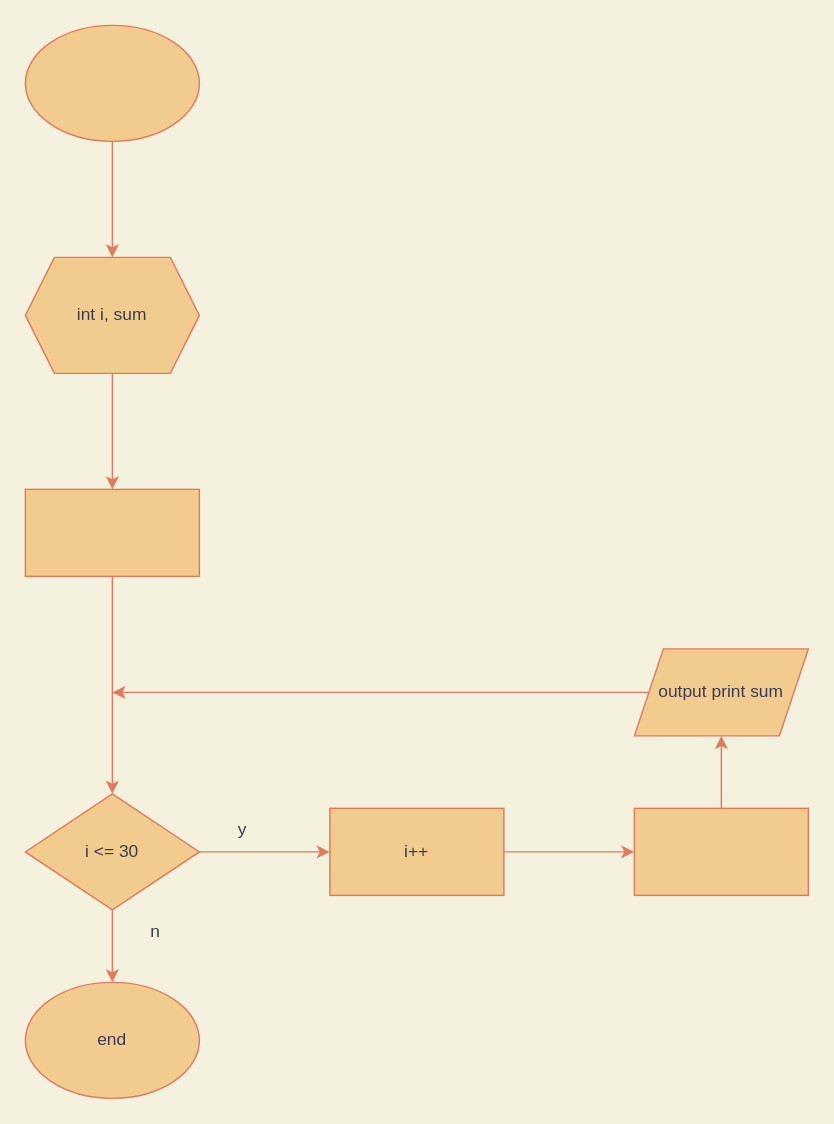
Image size: 834x1124. Some labels were removed from this diagram. The centre of each missing label's shape, as x and y in pixels:
i = 1: (x=111, y=532)
start: (x=111, y=82)
sum += i: (x=720, y=851)
